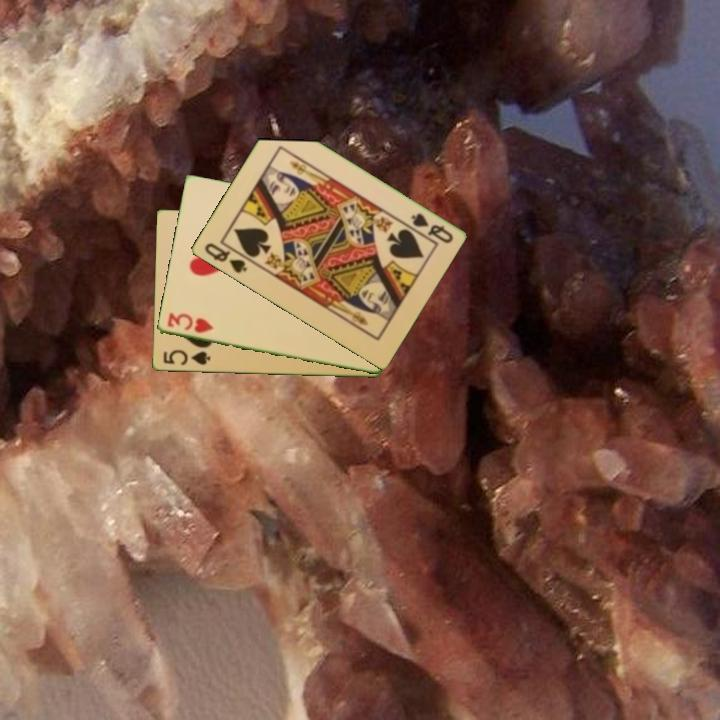3h: (163, 309, 216, 336)
5s: (159, 346, 213, 368)
Qs: (407, 209, 456, 247), (201, 239, 250, 276)
